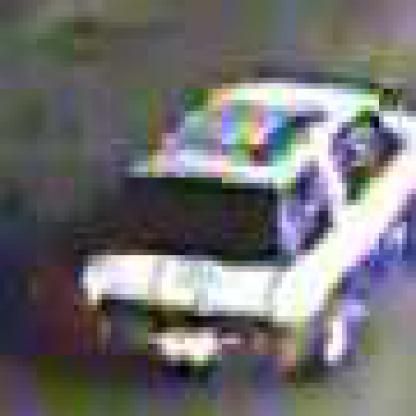car: (79, 73, 413, 416)
